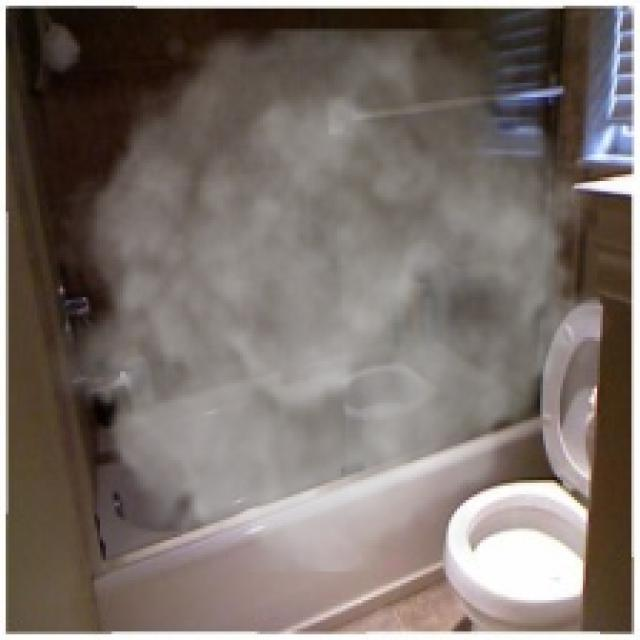smoke: (46, 29, 614, 572)
